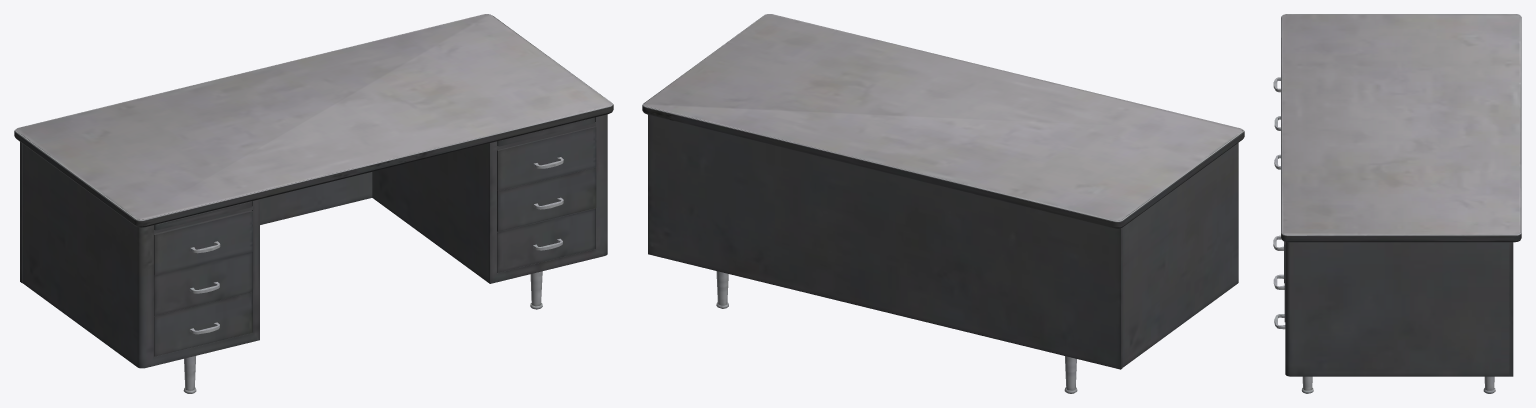
Rendered from ph_metal_office_desk.glb.
3 renders of one model, left to right at view 1: azimuth 30°, elevation 25°; view 2: azimuth 150°, elevation 25°; view 3: azimuth 270°, elevation 25°, orthographic. The views are drawn at different scales.
Parts seen in each view (by area): view 1: metal_office_desk_drawer_06; view 2: metal_office_desk_drawer_06; view 3: metal_office_desk_drawer_06.
Boxes of the visible parts, left/top/right/bottom form: metal_office_desk_drawer_06: left=14, top=14, right=613, bottom=393; metal_office_desk_drawer_06: left=642, top=14, right=1244, bottom=393; metal_office_desk_drawer_06: left=1273, top=14, right=1521, bottom=393.
Size of the model in its own units: 2 by 0.7868 by 0.947.
1 material, 1 textured.
